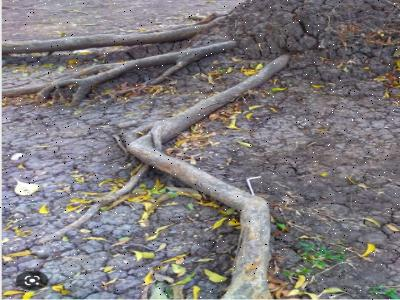Root: (122, 55, 289, 298), (2, 41, 235, 104), (2, 16, 225, 55), (44, 169, 143, 242)
